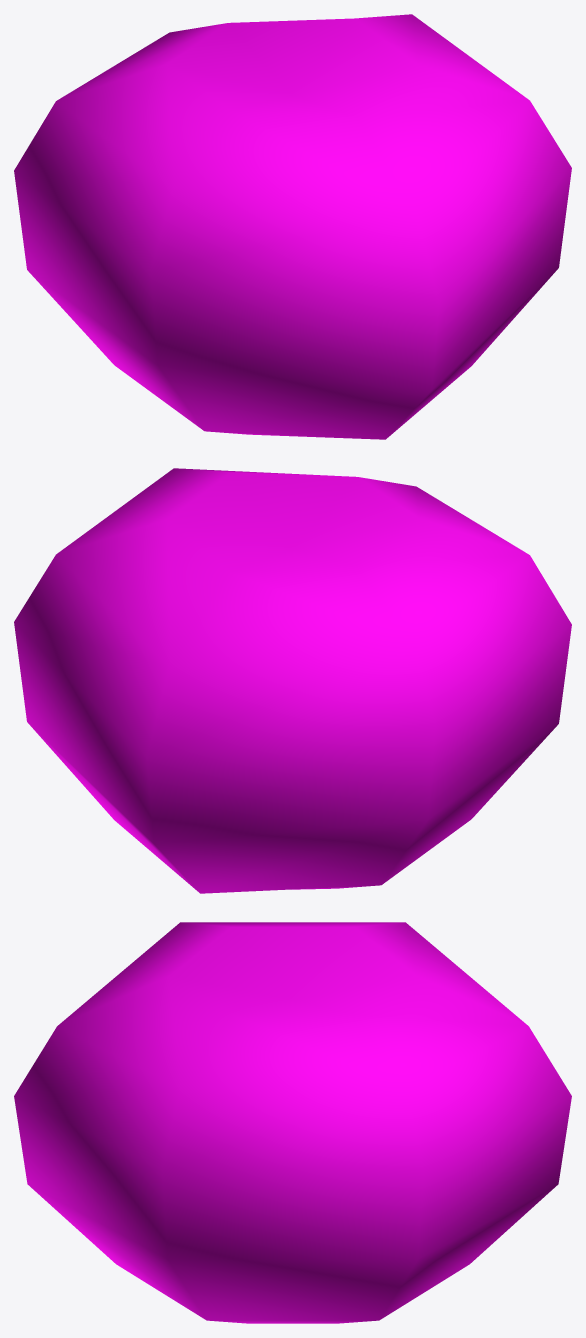
Rendered from tomato_meshCollider.fbx.
The picture shows the model from 3 angles, top to bottom: view 1: azimuth 30°, elevation 25°; view 2: azimuth 150°, elevation 25°; view 3: azimuth 270°, elevation 25°; orthographic projection. The views are drawn at different scales.
Parts seen in each view (by area): view 1: foods_tomato_meshCollider; view 2: foods_tomato_meshCollider; view 3: foods_tomato_meshCollider.
Boxes of the visible parts, x1=… form: foods_tomato_meshCollider: x1=14, y1=14, x2=571, y2=439; foods_tomato_meshCollider: x1=14, y1=468, x2=571, y2=893; foods_tomato_meshCollider: x1=14, y1=922, x2=571, y2=1323.
Bounding box in the file's own units: 10.3 × 8.08 × 12.37.
